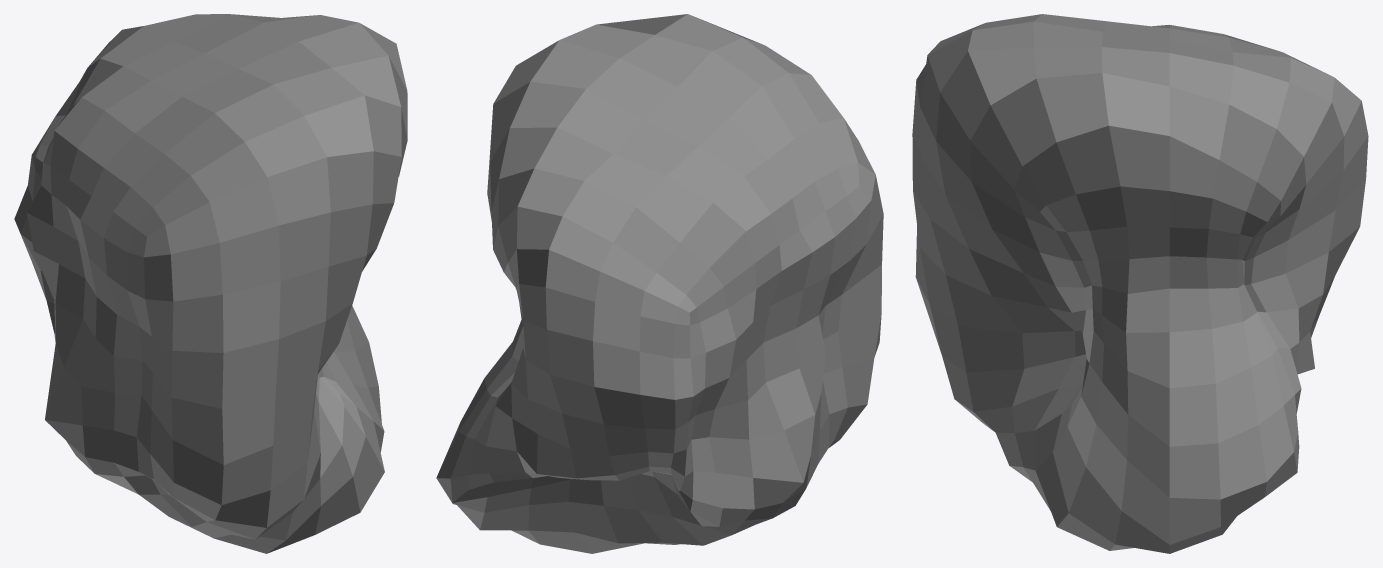
The model's file is stone8.fbx.
The picture shows the model from 3 angles, left to right: view 1: azimuth 30°, elevation 25°; view 2: azimuth 150°, elevation 25°; view 3: azimuth 270°, elevation 25°; orthographic projection.
Parts seen in each view (by area): view 1: Cube.002; view 2: Cube.002; view 3: Cube.002.
Boxes of the visible parts, left/top/right/bottom form: Cube.002: left=14, top=14, right=407, bottom=553; Cube.002: left=436, top=14, right=883, bottom=553; Cube.002: left=912, top=14, right=1368, bottom=553.
Size of the model in its own units: 51.22 by 70.7 by 60.31.
1 material, 1 textured.
